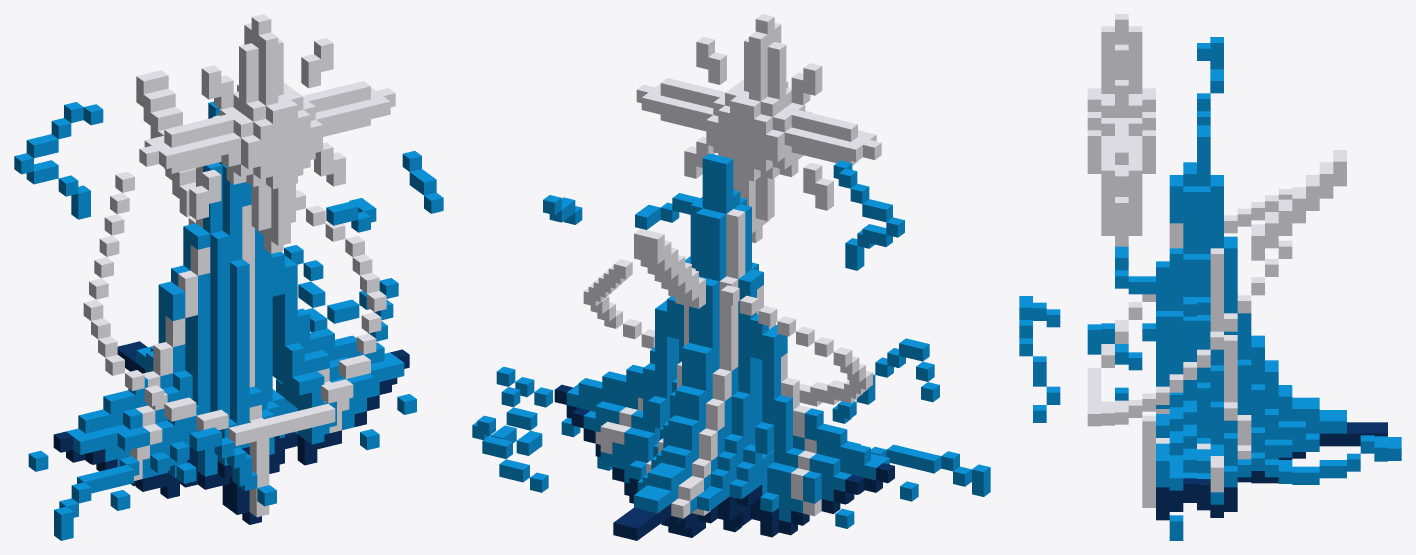
Rendered from enemy2.obj.
3 renders of one model, left to right at view 1: azimuth 30°, elevation 25°; view 2: azimuth 150°, elevation 25°; view 3: azimuth 270°, elevation 25°, orthographic. The views are drawn at different scales.
Size of the model in its own units: 3.4 by 4 by 2.8.
Materials: 1 (1 with a texture image).
